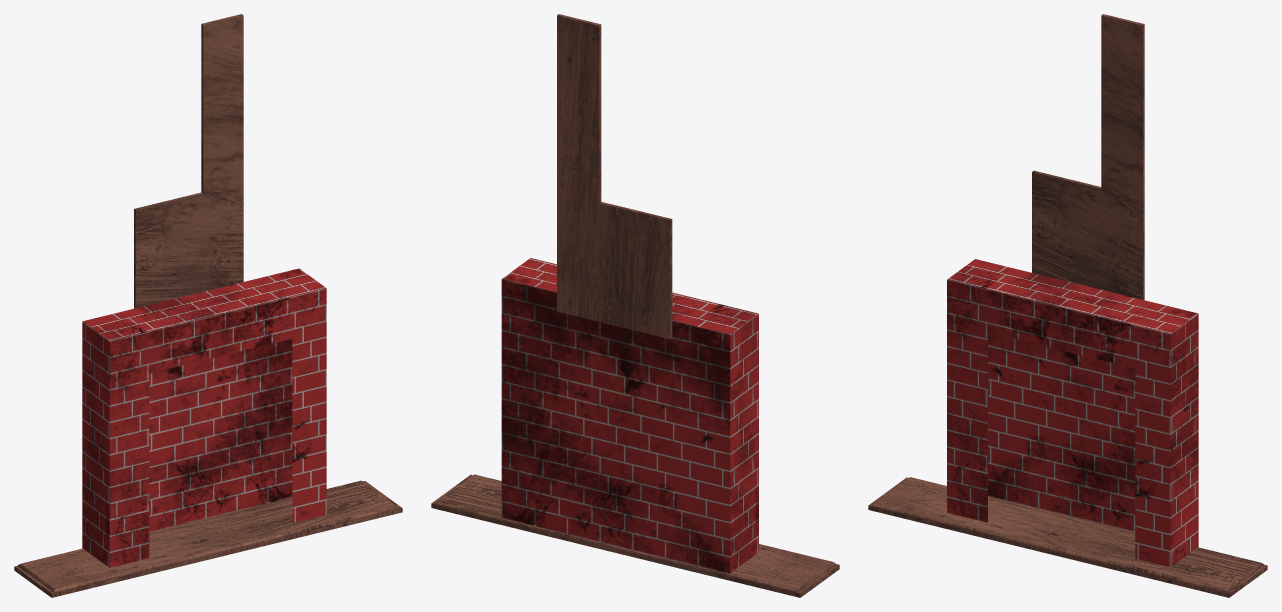
Rendered from HogueraFinal.fbx.
3 views of the same model, side by side, from view 1: azimuth 30°, elevation 25°; view 2: azimuth 150°, elevation 25°; view 3: azimuth 330°, elevation 25° (orthographic). The views are drawn at different scales.
Visible parts, largest first — view 1: lp_suelo2, lp_pared, lp_suelo1, lp_suelo; view 2: lp_suelo2, lp_pared, lp_suelo1, lp_suelo; view 3: lp_suelo2, lp_pared, lp_suelo1, lp_suelo.
Part boxes in pixels (box(x1,y1,x2,y2)): lp_suelo2: box(82, 268, 326, 567); lp_pared: box(134, 14, 243, 308); lp_suelo1: box(18, 480, 398, 592); lp_suelo: box(14, 481, 402, 597); lp_suelo2: box(501, 258, 758, 573); lp_pared: box(557, 14, 672, 339); lp_suelo1: box(435, 474, 835, 592); lp_suelo: box(431, 474, 839, 597); lp_suelo2: box(947, 259, 1198, 567); lp_pared: box(1032, 14, 1144, 300); lp_suelo1: box(872, 477, 1263, 592); lp_suelo: box(868, 477, 1267, 597).
Size of the model in its own units: 3.25 by 4.42 by 0.6321.
3 materials, 3 textured.
